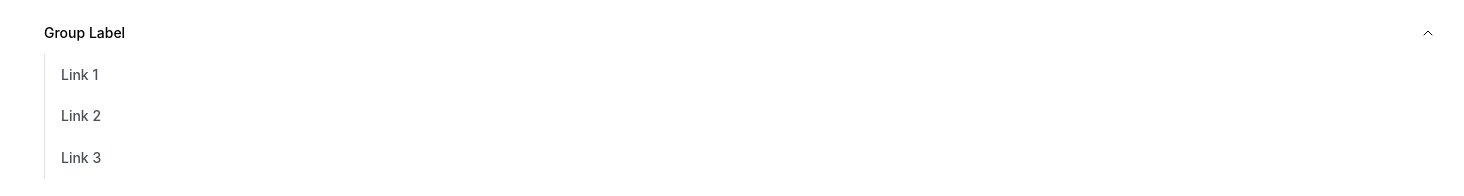
Scenario: NavBarLinksGroup › hides when closed
The image size is (1464, 196).
Expected: the link "Link 1" is shown, 44,54 -> 1452,95
Click the button "Group Label" at (85, 32), box 12,12 -> 1452,54
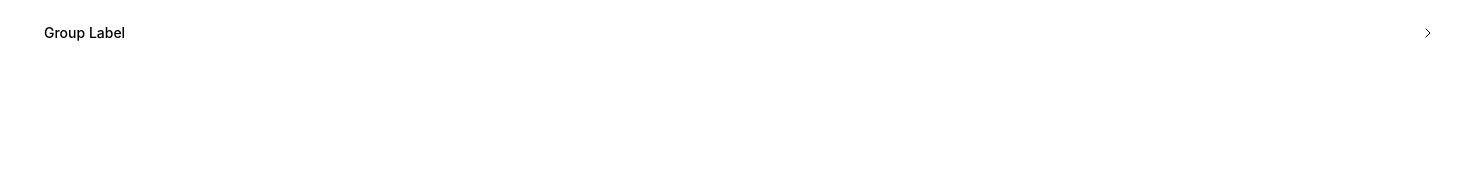
Result: the link "Link 1" is gone
